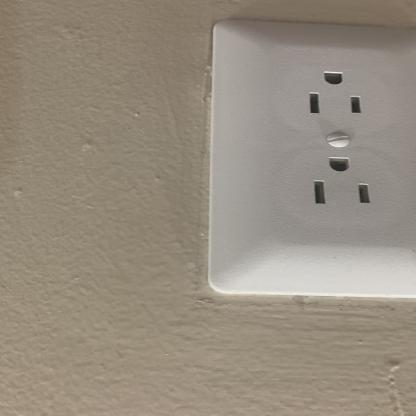OUTLET: (204, 22, 415, 301)
